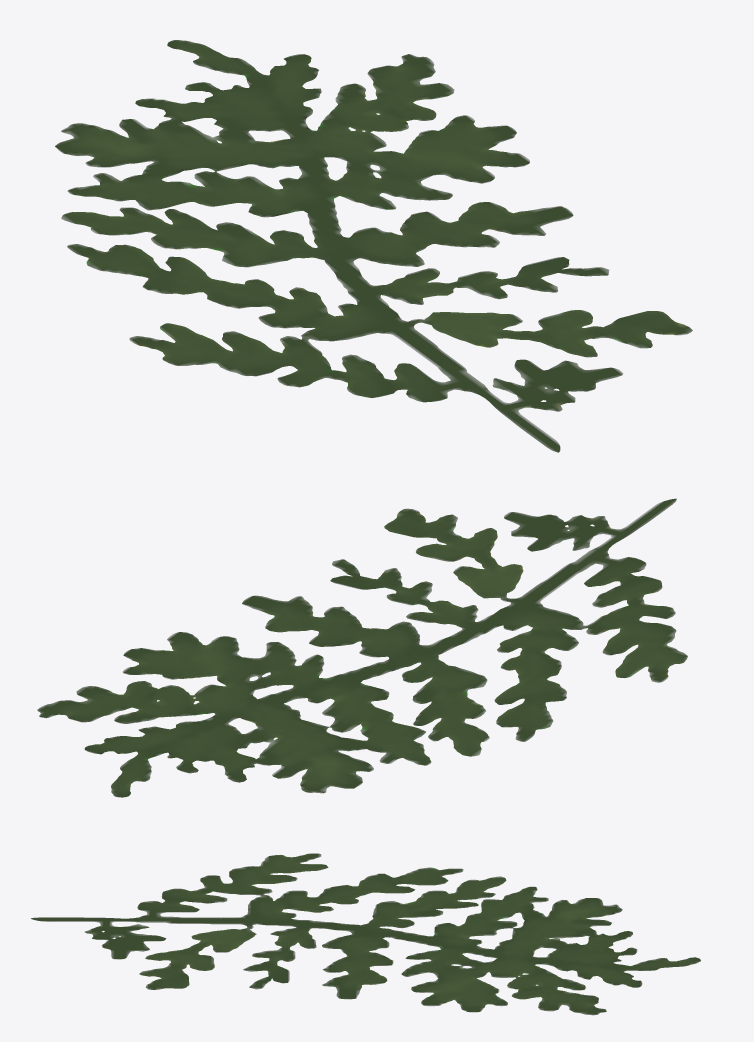
Rendered from SM_CarrotGreen.fbx.
3 renders of one model, top to bottom at view 1: azimuth 30°, elevation 25°; view 2: azimuth 150°, elevation 25°; view 3: azimuth 270°, elevation 25°, orthographic. The views are drawn at different scales.
Visible parts, largest first — view 1: Cenoura.001; view 2: Cenoura.001; view 3: Cenoura.001.
Boxes of the visible parts, left/top/right/bottom form: Cenoura.001: left=55, top=40, right=692, bottom=452; Cenoura.001: left=37, top=498, right=687, bottom=797; Cenoura.001: left=31, top=853, right=700, bottom=1015.
Bounding box in the file's own units: 45.35 × 2.98e-06 × 74.47.
